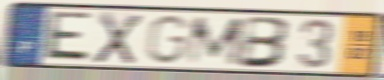3: (296, 16, 337, 72)
B: (237, 15, 293, 70)
E: (40, 9, 94, 65)
G: (143, 13, 193, 66)
M: (185, 16, 247, 67)
X: (91, 10, 145, 67)
